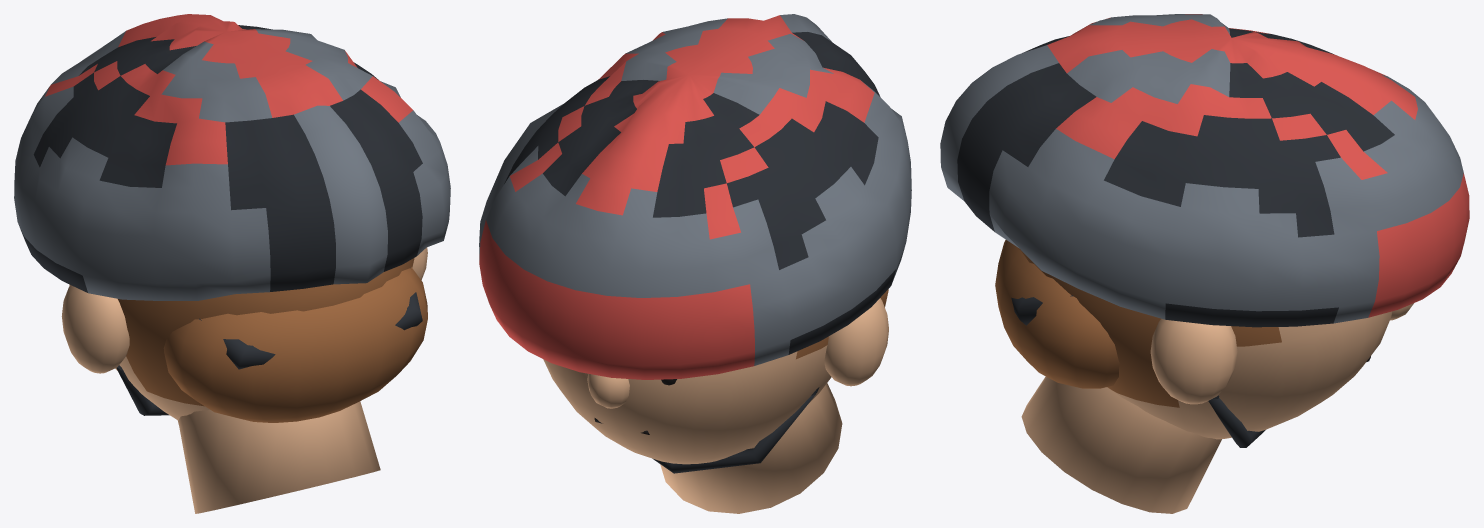
Rendered from rider_head_helmet.glb.
3 views of the same model, side by side, from view 1: azimuth 30°, elevation 25°; view 2: azimuth 150°, elevation 25°; view 3: azimuth 270°, elevation 25° (orthographic).
Parts seen in each view (by area): view 1: rider_head_helmet; view 2: rider_head_helmet; view 3: rider_head_helmet.
Part boxes in pixels (left/top/right/bottom): rider_head_helmet: left=14, top=14, right=450, bottom=513; rider_head_helmet: left=479, top=14, right=911, bottom=513; rider_head_helmet: left=940, top=14, right=1469, bottom=513.
Size of the model in its own units: 0.272 by 0.3275 by 0.3406.
